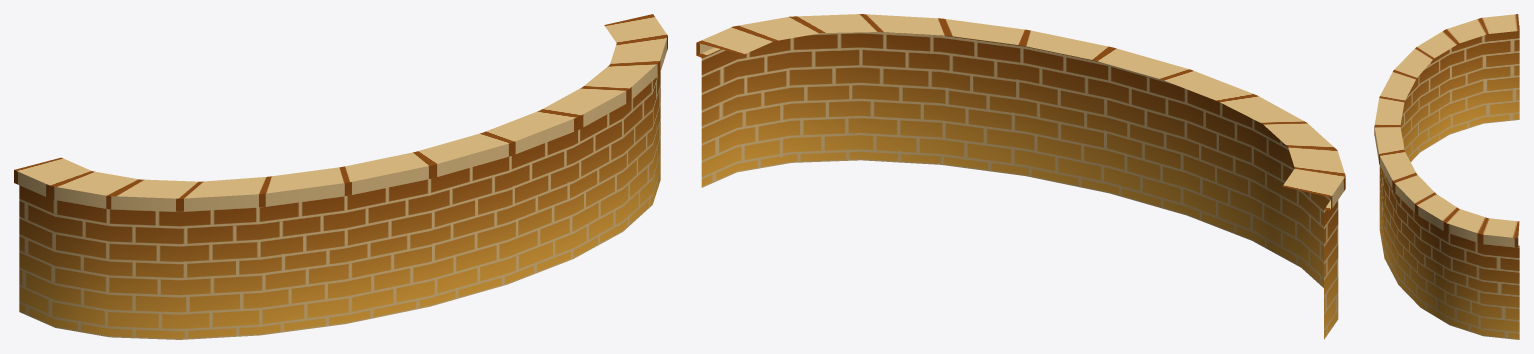
Rendered from Elvis_Wall_Single.FBX.
3 views of the same model, side by side, from view 1: azimuth 30°, elevation 25°; view 2: azimuth 150°, elevation 25°; view 3: azimuth 270°, elevation 25° (orthographic). The views are drawn at different scales.
Parts seen in each view (by area): view 1: Wall; view 2: Wall; view 3: Wall.
Part boxes in pixels (<box>): Wall: <box>14,14,667,339</box>; Wall: <box>696,14,1345,339</box>; Wall: <box>1374,14,1519,339</box>.
Size of the model in its own units: 10.19 by 2.79 by 2.2.
